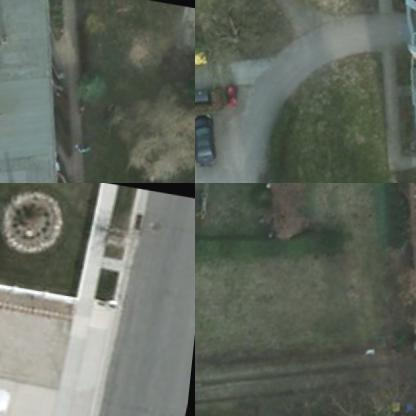car: (195, 112, 225, 167), (0, 369, 21, 415)
